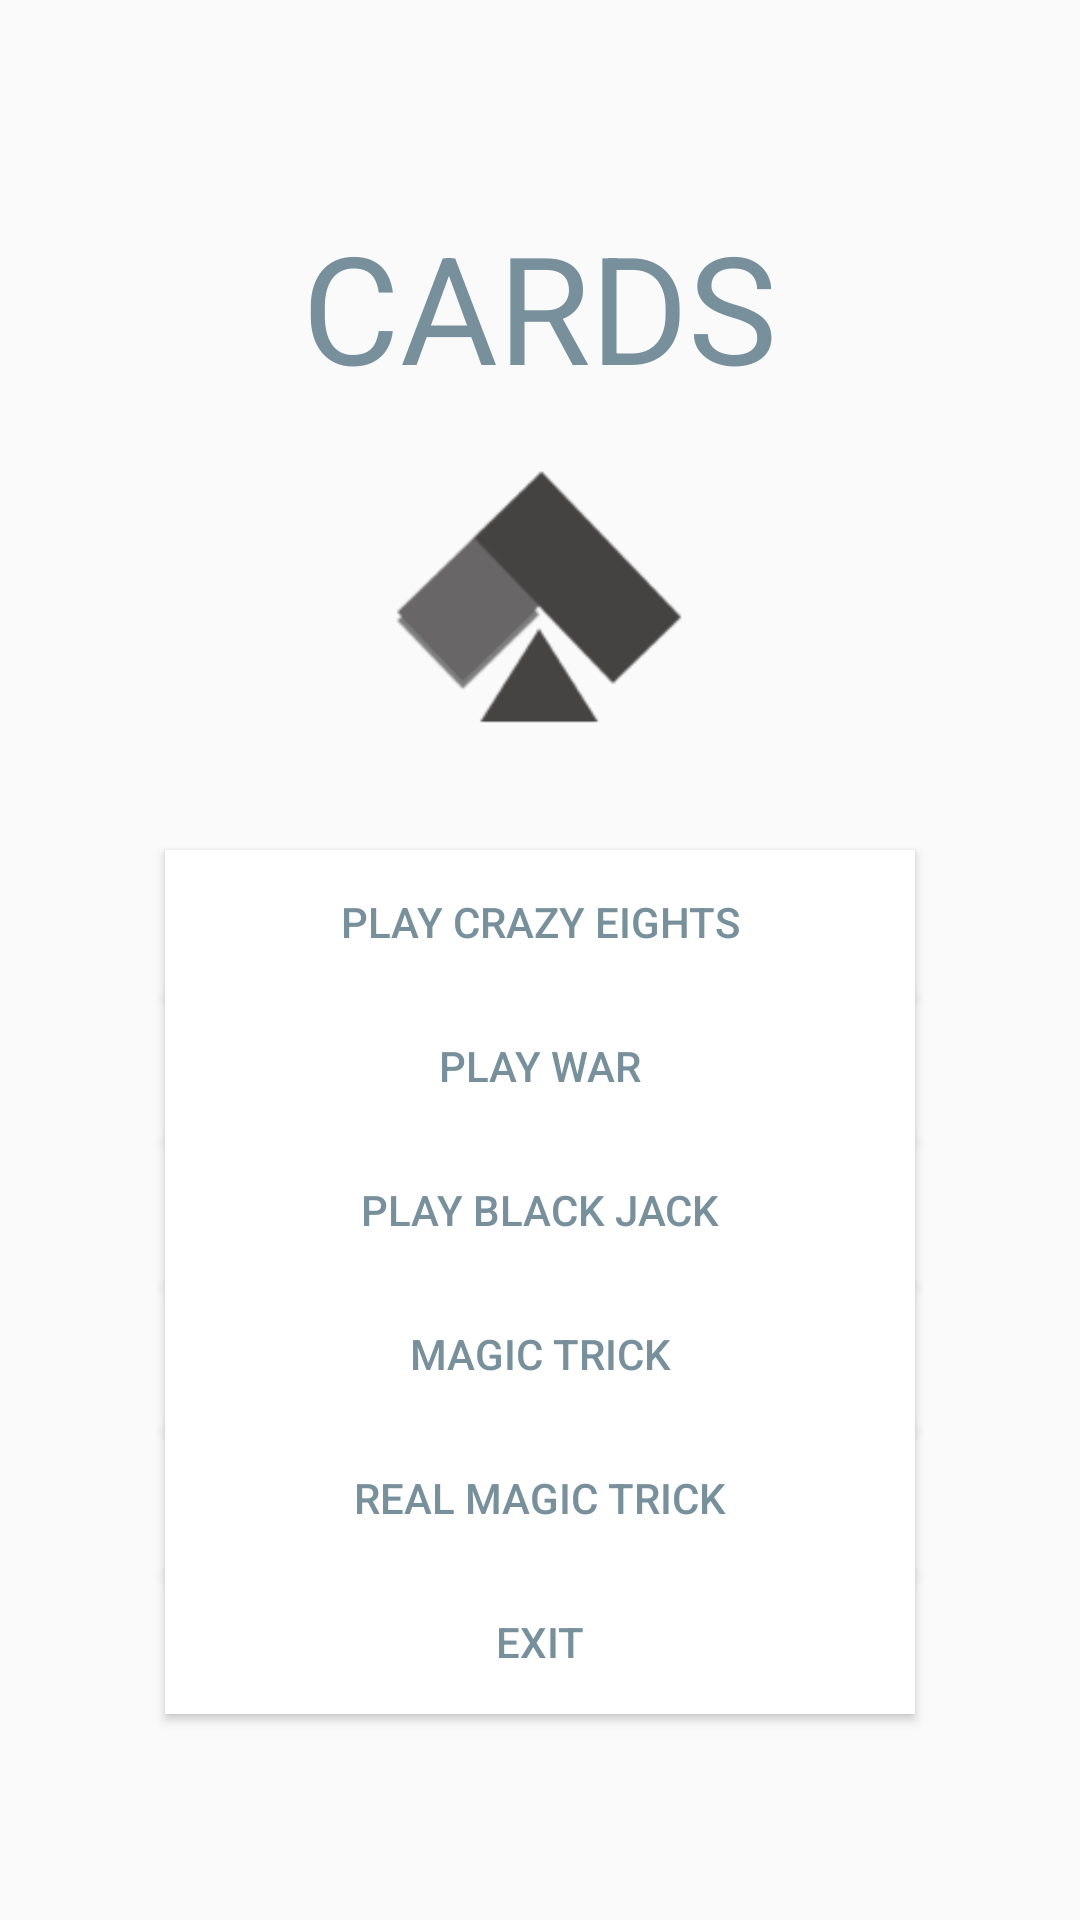

Icons on this 1080×1920 Android screen, each with the point to tap as [x,y]:
spade: [539,597]
